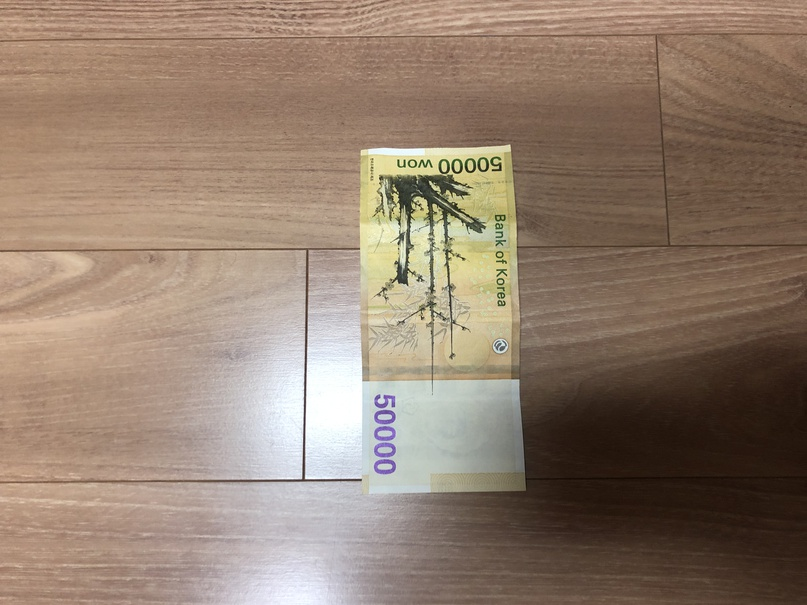50000won: (361, 145, 528, 497)
